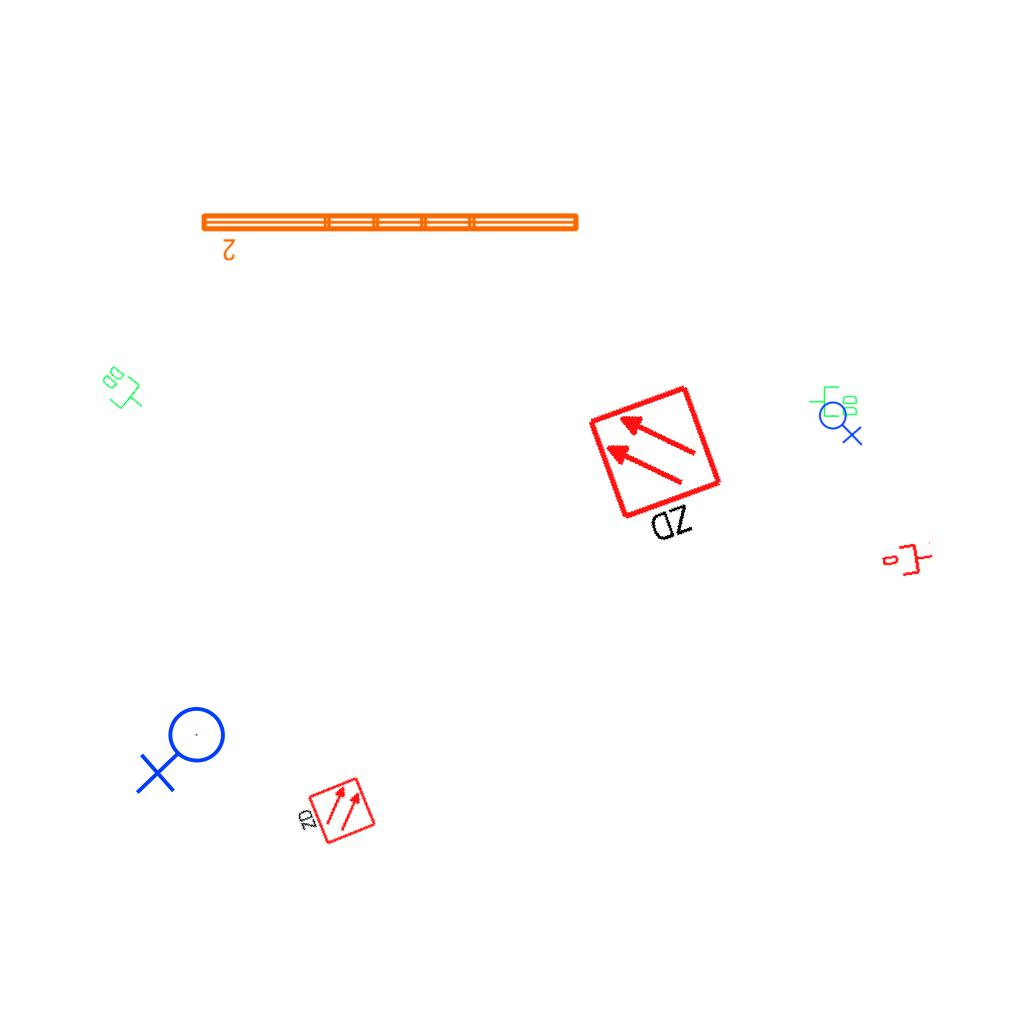Ambulanz_Pendelleuchte_LED: (197, 207, 584, 263)
Datenanschluss_einfach: (880, 539, 936, 581)
Datenanschluss_zweifach: (92, 361, 155, 421), (808, 385, 859, 419)
Elektroanschluss_allgemein_230V_Geraeteanschlussdose_230V: (135, 705, 234, 799), (818, 397, 865, 446)
ZD_Melder_in_Zwischendecke_mit_Revisionsoeffnung_mind_40_x_40_cm: (583, 379, 743, 560), (288, 774, 379, 856)
